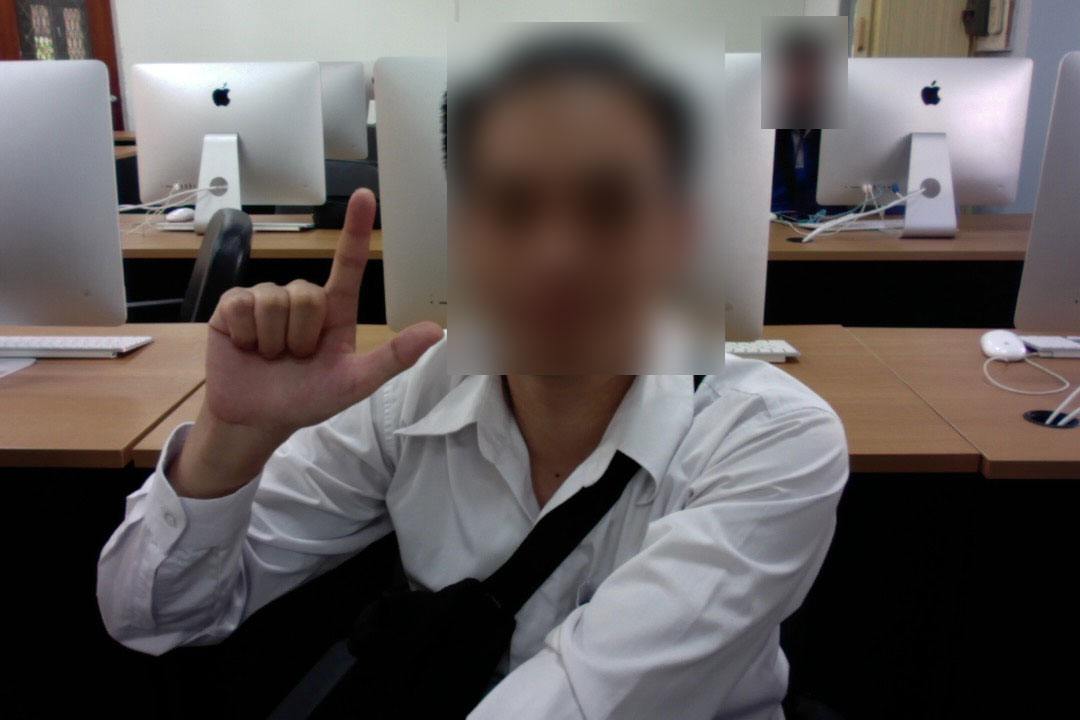lor: (167, 178, 451, 425)
